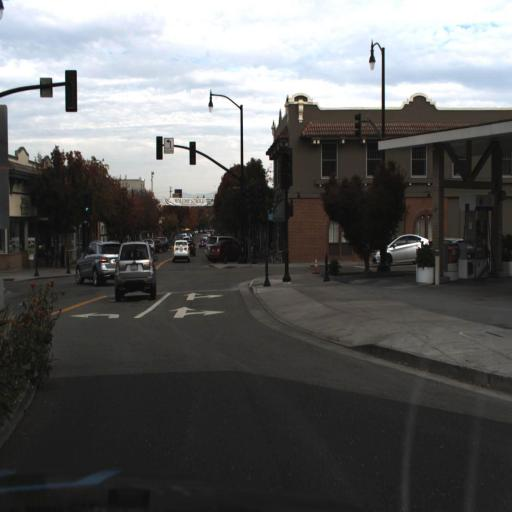car: (114, 240, 156, 298), (71, 236, 120, 285), (373, 231, 429, 265), (208, 240, 242, 259), (170, 238, 189, 263)
trafficLight-Green: (188, 143, 196, 164)
trafficLight-GreenLeft: (84, 195, 92, 221)
trafficLight-RedLeft: (156, 137, 162, 158)
